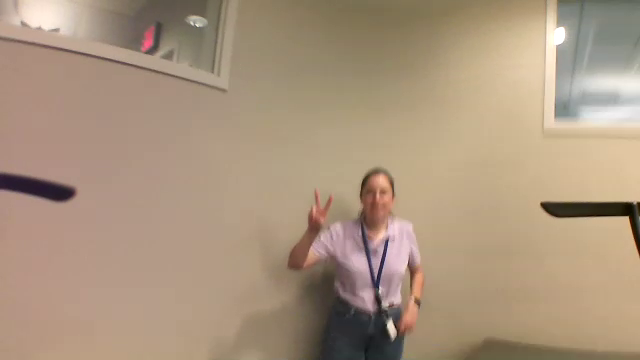peace: (297, 180, 342, 237)
